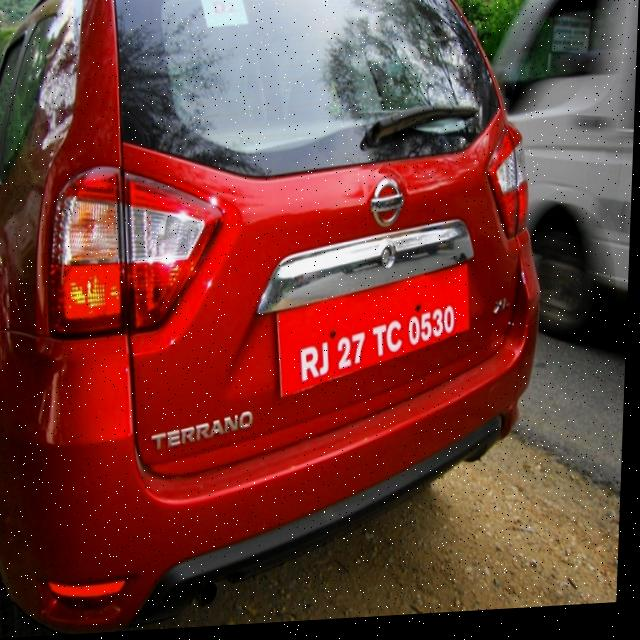plate: (276, 266, 478, 405)
